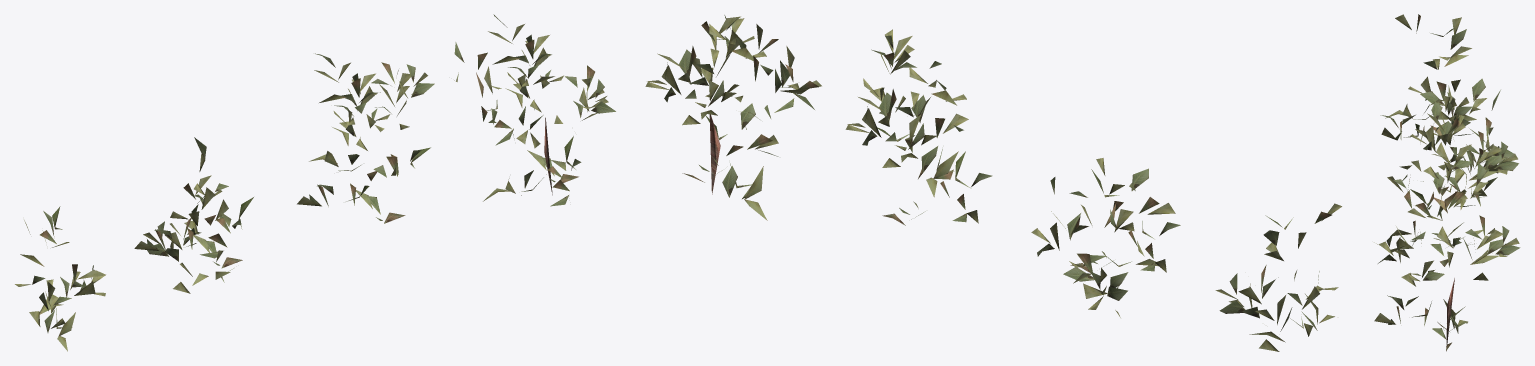
The model's file is shrub_04.glb.
3 views of the same model, side by side, from view 1: azimuth 30°, elevation 25°; view 2: azimuth 150°, elevation 25°; view 3: azimuth 270°, elevation 25° (orthographic). The views are drawn at different scales.
Parts seen in each view (by area): view 1: shrub_04; view 2: shrub_04; view 3: shrub_04.
Boxes of the visible parts, x1,y1,x2,y2 form: shrub_04: (15, 14, 615, 351); shrub_04: (645, 15, 1341, 351); shrub_04: (1374, 14, 1520, 351).
Size of the model in its own units: 0.5723 by 0.1851 by 0.136.
1 material, 1 textured.
